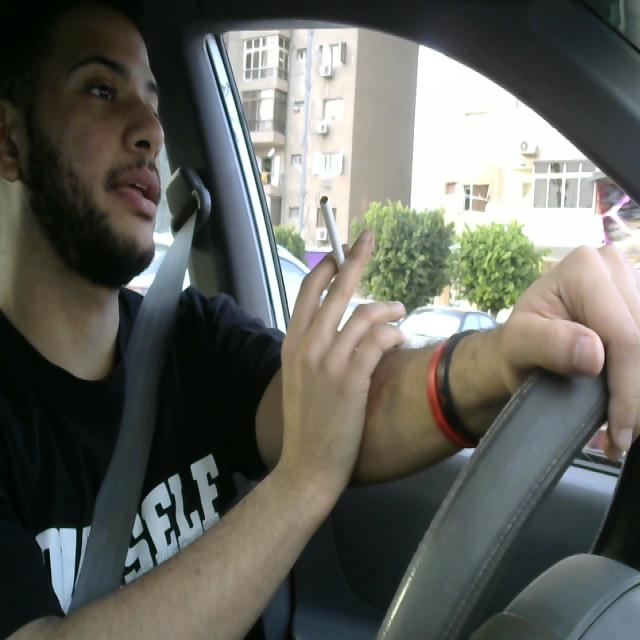smoking: (309, 190, 355, 282)
